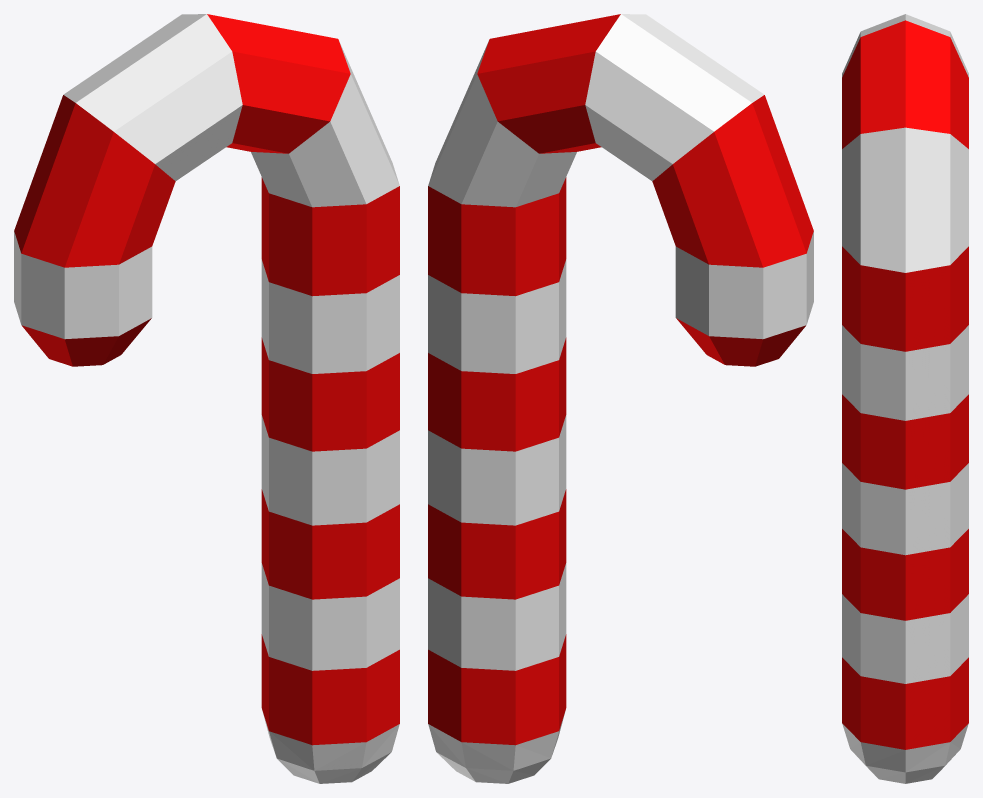
Rendered from candy.glb.
The picture shows the model from 3 angles, left to right: view 1: azimuth 30°, elevation 25°; view 2: azimuth 150°, elevation 25°; view 3: azimuth 270°, elevation 25°; orthographic projection. The views are drawn at different scales.
Visible parts, largest first — view 1: Node; view 2: Node; view 3: Node.
Boxes of the visible parts, bbox=[...] form: Node: bbox=[14, 14, 399, 783]; Node: bbox=[428, 14, 813, 783]; Node: bbox=[842, 14, 968, 783].
Bounding box in the file's own units: 1.93 × 3.93 × 0.6442.
